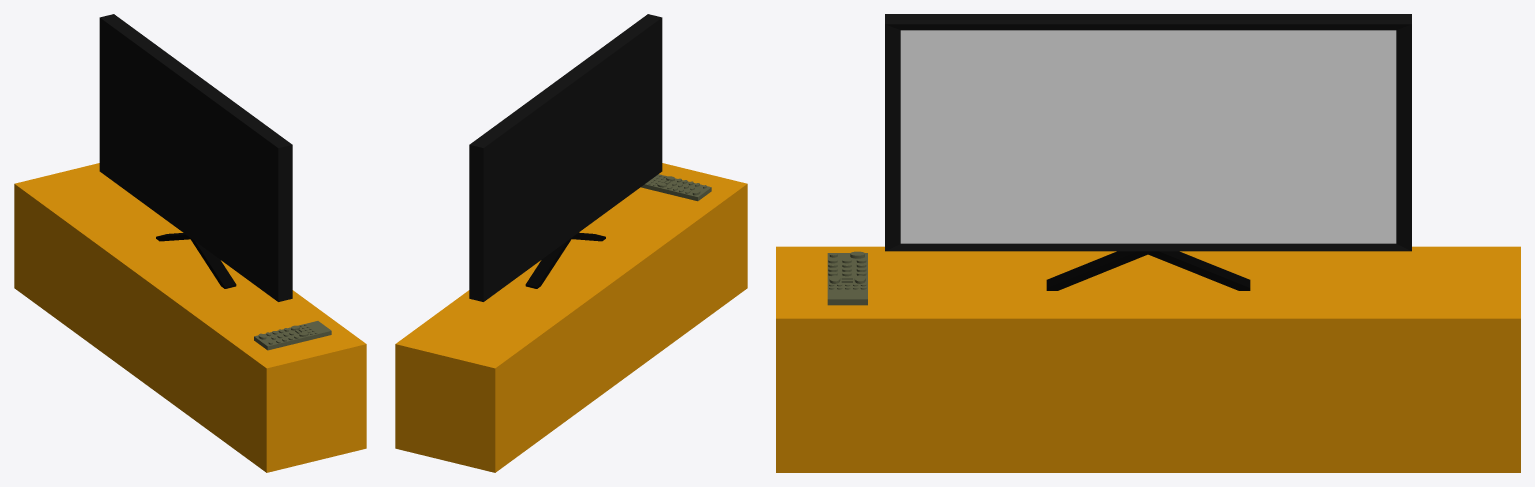
The picture shows the model from 3 angles, left to right: view 1: azimuth 30°, elevation 25°; view 2: azimuth 150°, elevation 25°; view 3: azimuth 270°, elevation 25°; orthographic projection. The views are drawn at different scales.
Visible parts, largest first — view 1: tv dudukan; view 2: tv dudukan; view 3: tv dudukan.
Part boxes in pixels (<box>): tv dudukan: <box>14,14,366,472</box>; tv dudukan: <box>395,14,747,472</box>; tv dudukan: <box>776,14,1520,472</box>.
Size of the model in its own units: 200 by 547 by 875.
